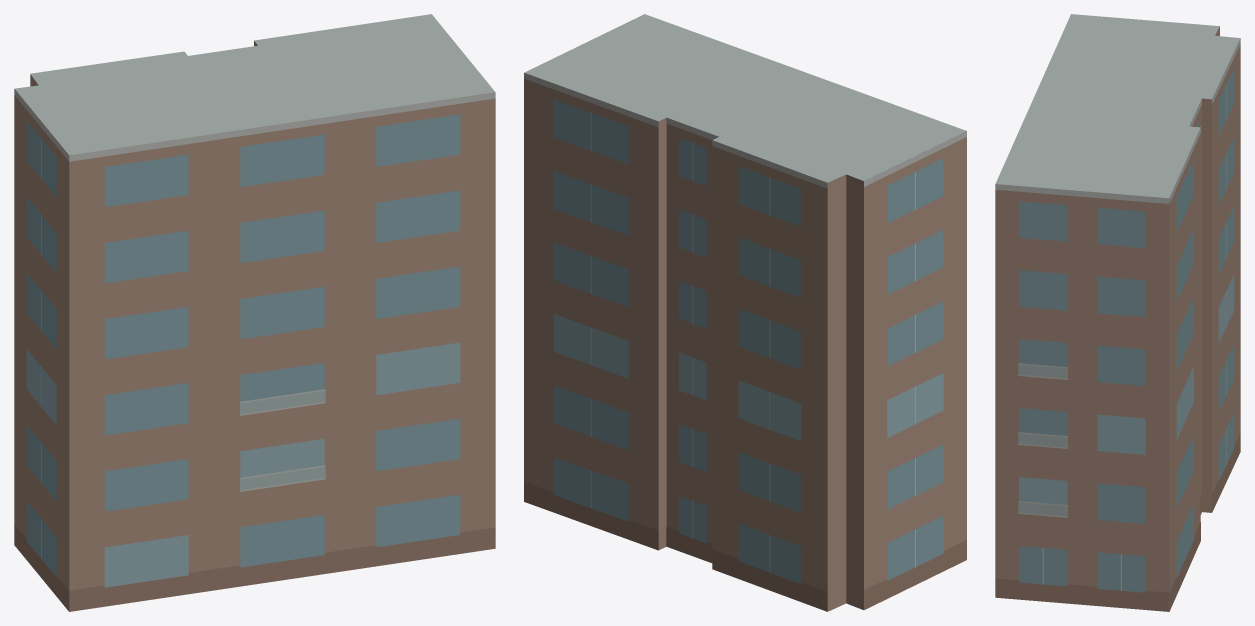
The model's file is survey-upis-32788258.glb.
3 views of the same model, side by side, from view 1: azimuth 30°, elevation 25°; view 2: azimuth 150°, elevation 25°; view 3: azimuth 270°, elevation 25° (orthographic). The views are drawn at different scales.
Visible parts, largest first — view 1: survey-upis-32788258.tmp; view 2: survey-upis-32788258.tmp; view 3: survey-upis-32788258.tmp.
Part boxes in pixels (x1,y1,x2,y2): survey-upis-32788258.tmp: [14, 14, 495, 611]; survey-upis-32788258.tmp: [524, 14, 966, 611]; survey-upis-32788258.tmp: [995, 14, 1240, 611].
Size of the model in its own units: 16.83 by 17.6 by 9.47.
